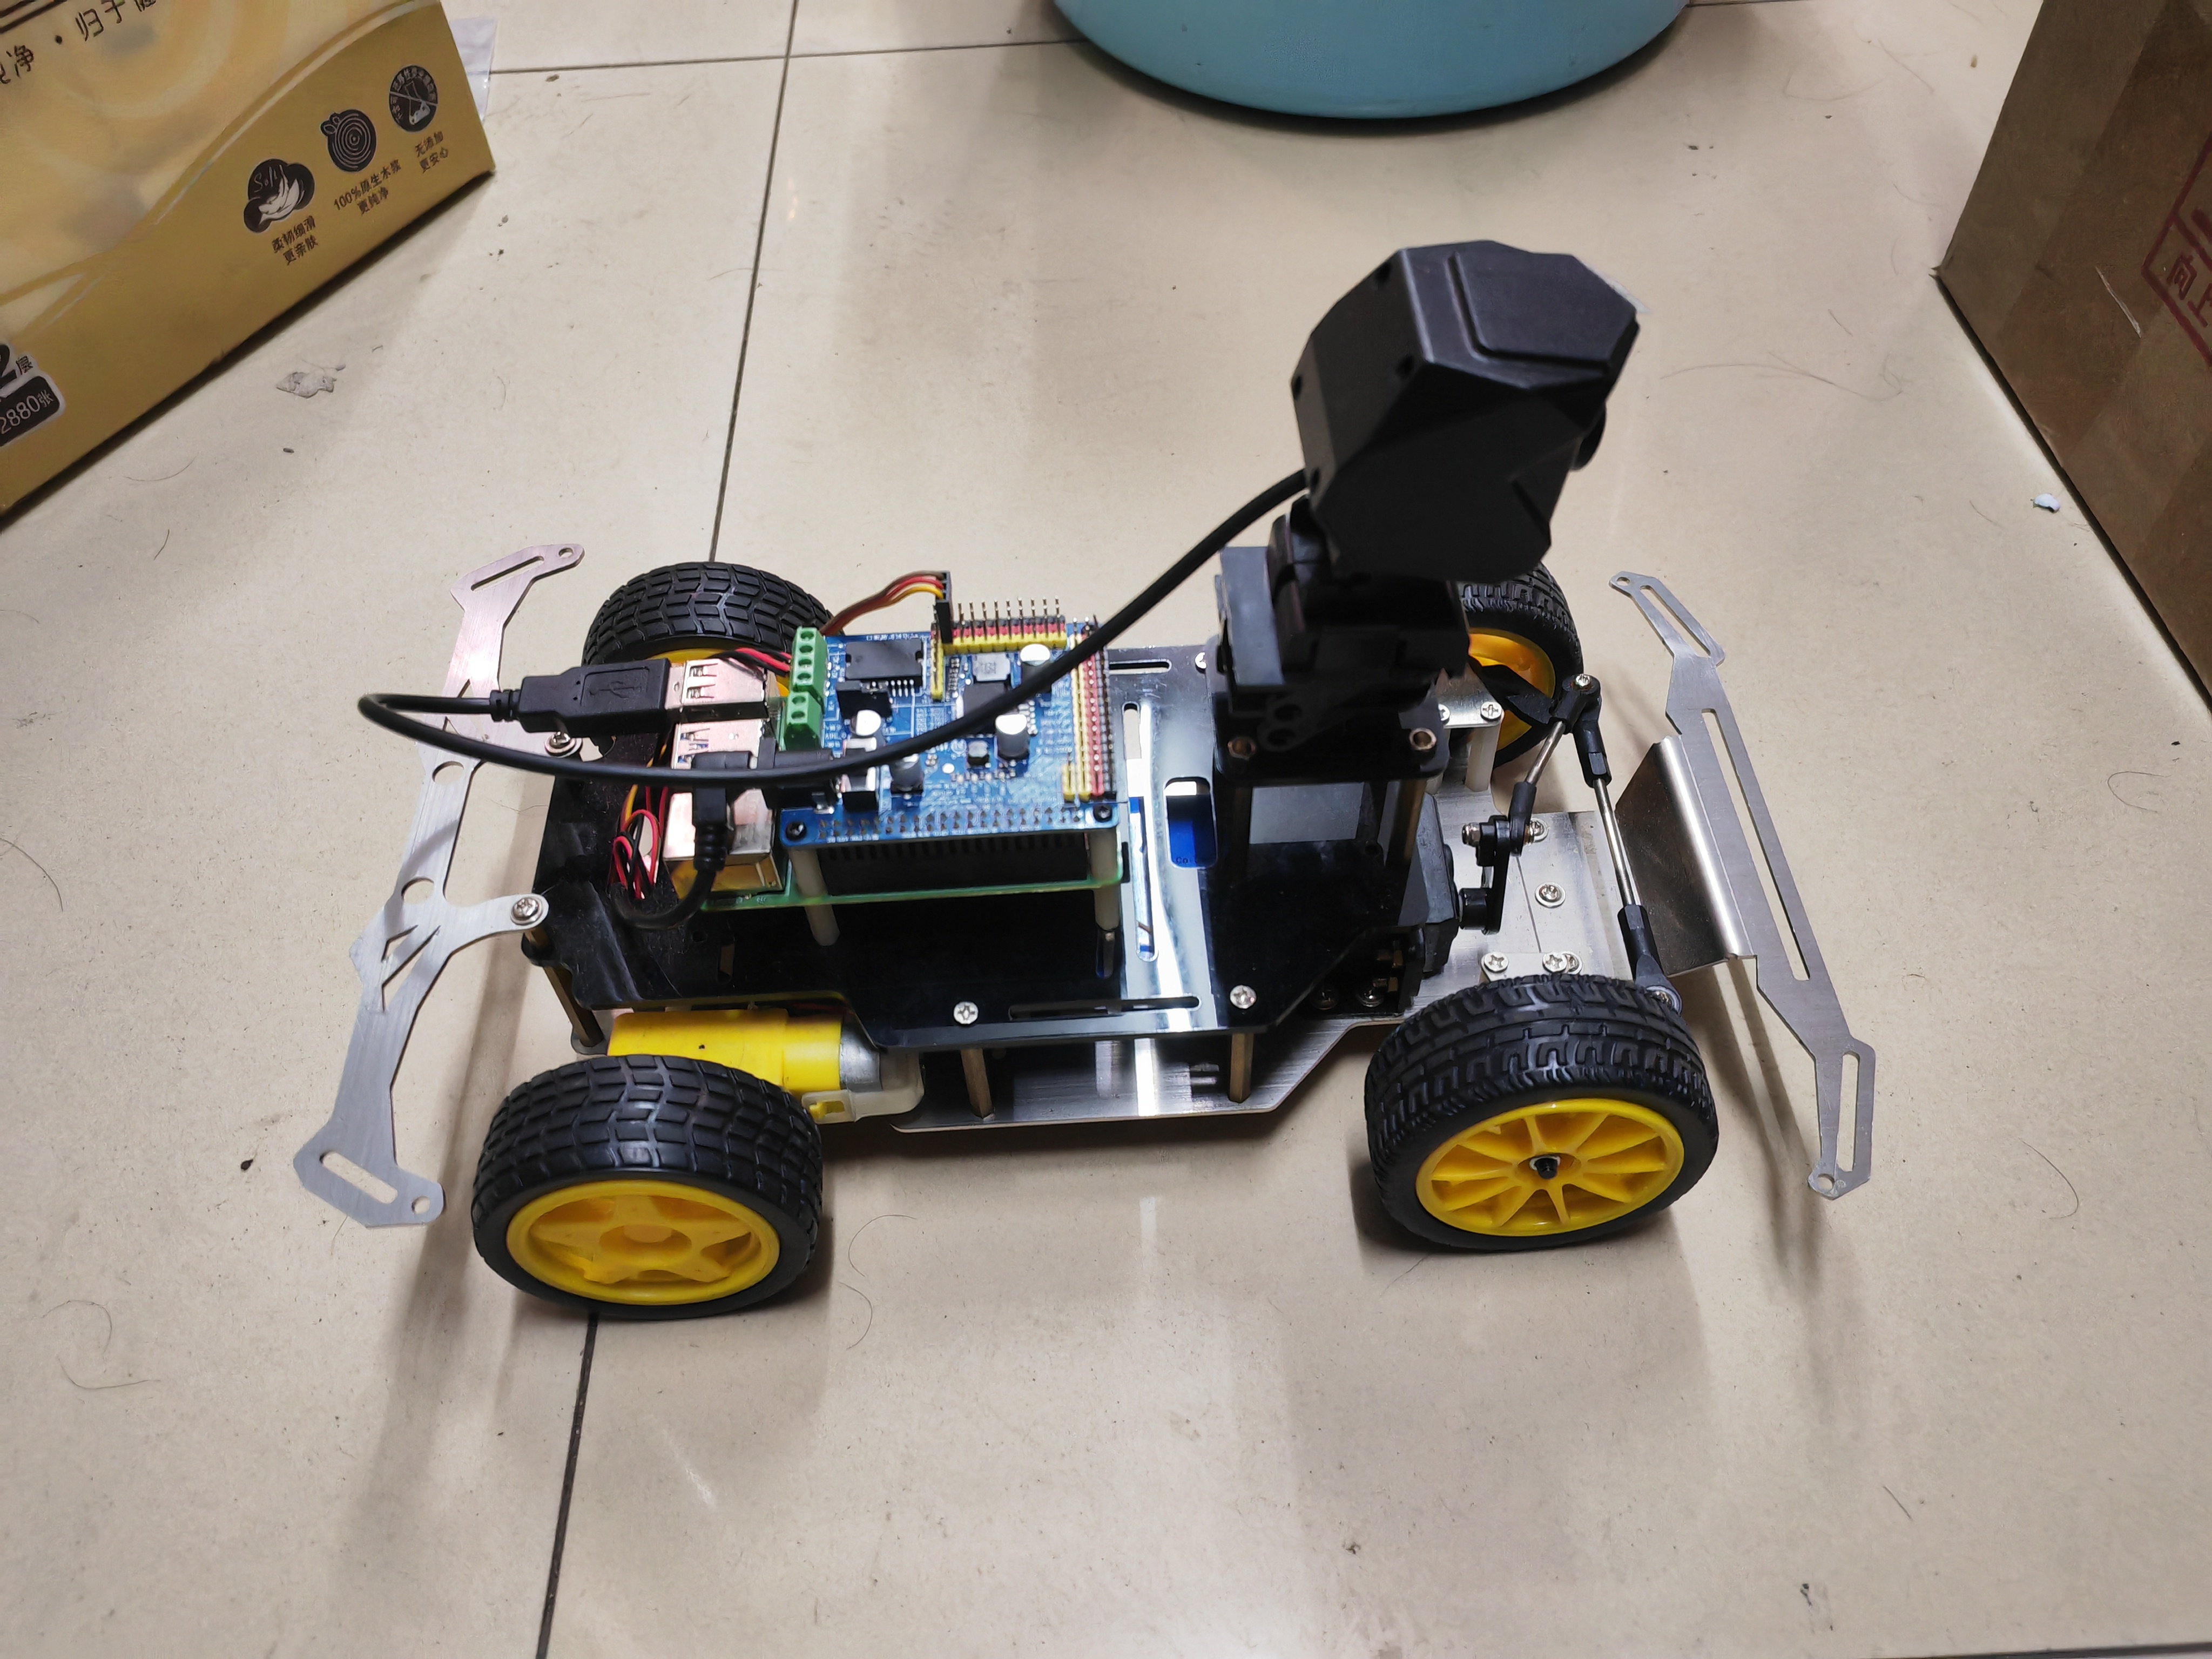car: (268, 221, 1904, 1330)
